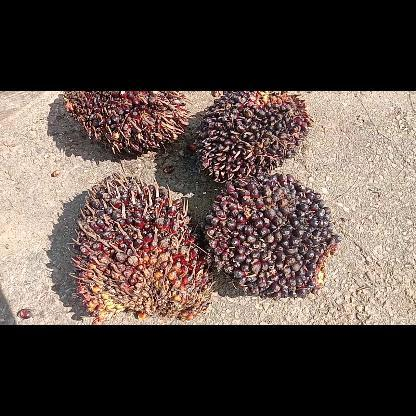TBS mentah: (68, 171, 216, 319), (198, 173, 342, 299), (192, 91, 312, 185), (63, 90, 195, 154)
